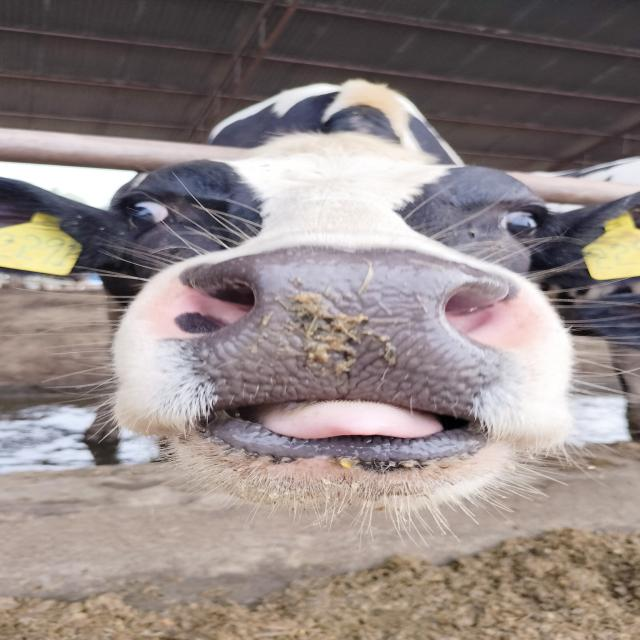muzzles: (152, 238, 546, 458)
